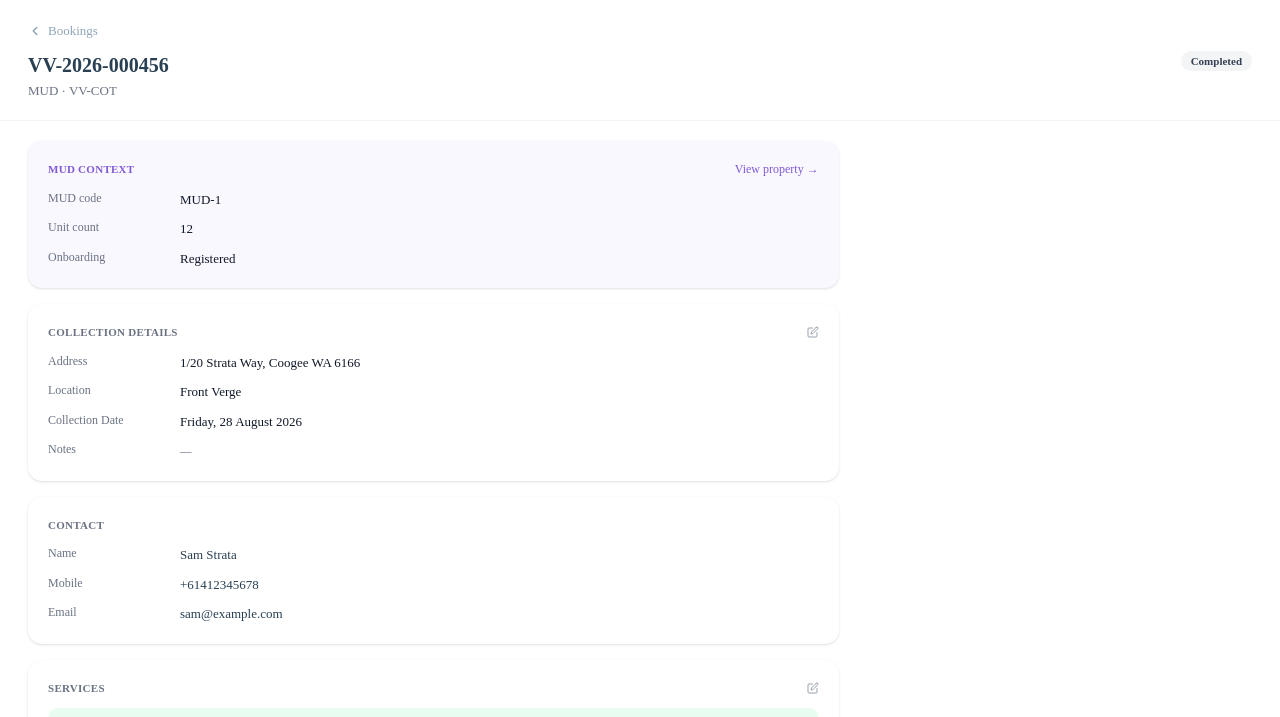
it: MUD collected-count editor — interaction › Save stays disabled until a count changes, then sends ONLY the changed item with its verbatim token
Click the button named "Edit collected counts" at (813, 688), box [807,682,819,694]
(page scrolled)
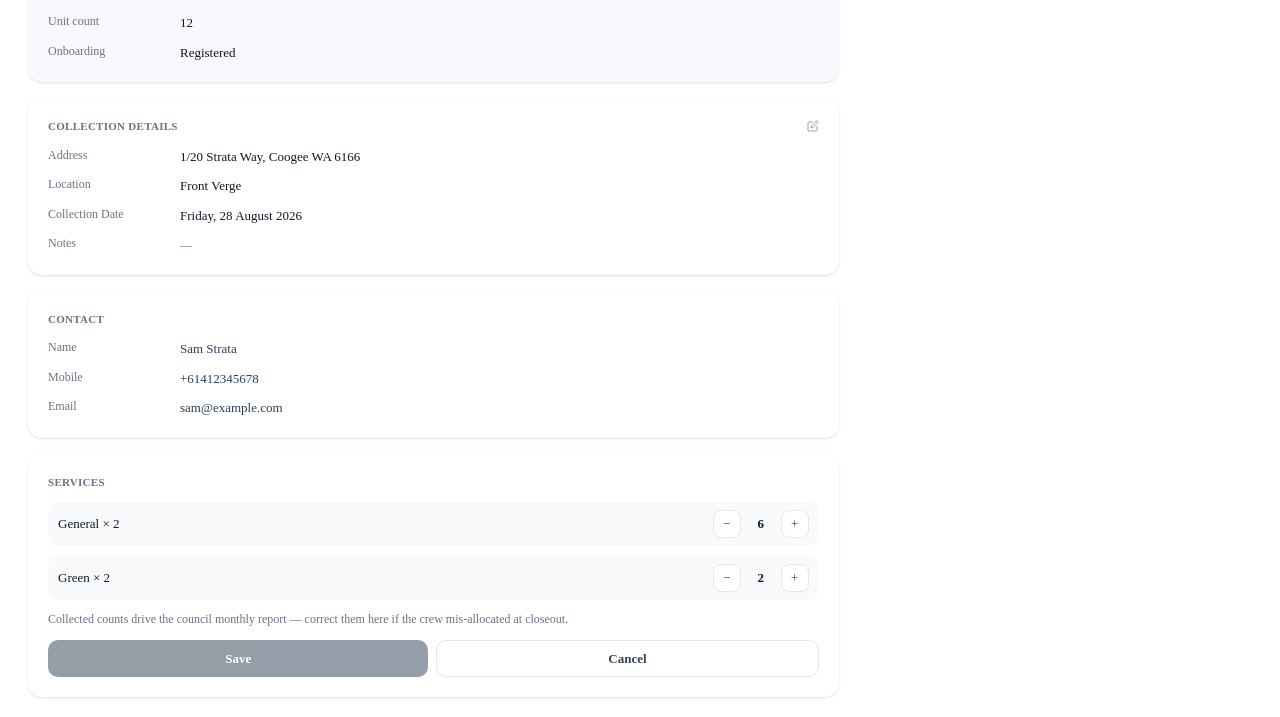
Expected: the button "Save" is disabled, [48,640,428,677]
// Correct the mis-allocation: General 6 → 5.
Click the button named "Decrease General collected count" at (727, 524), box [713,510,741,538]
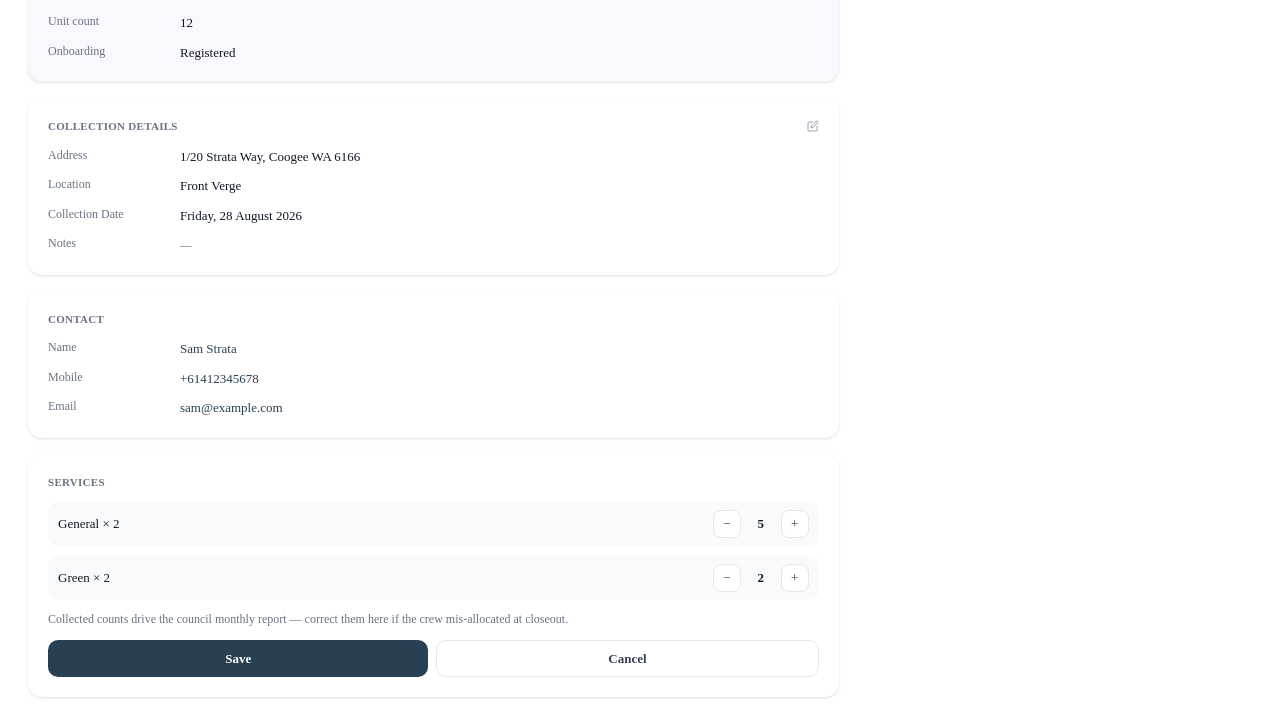
Expected: the button "Save" is enabled
Click the button "Save" at (238, 658), box [48,640,428,677]
(page scrolled)
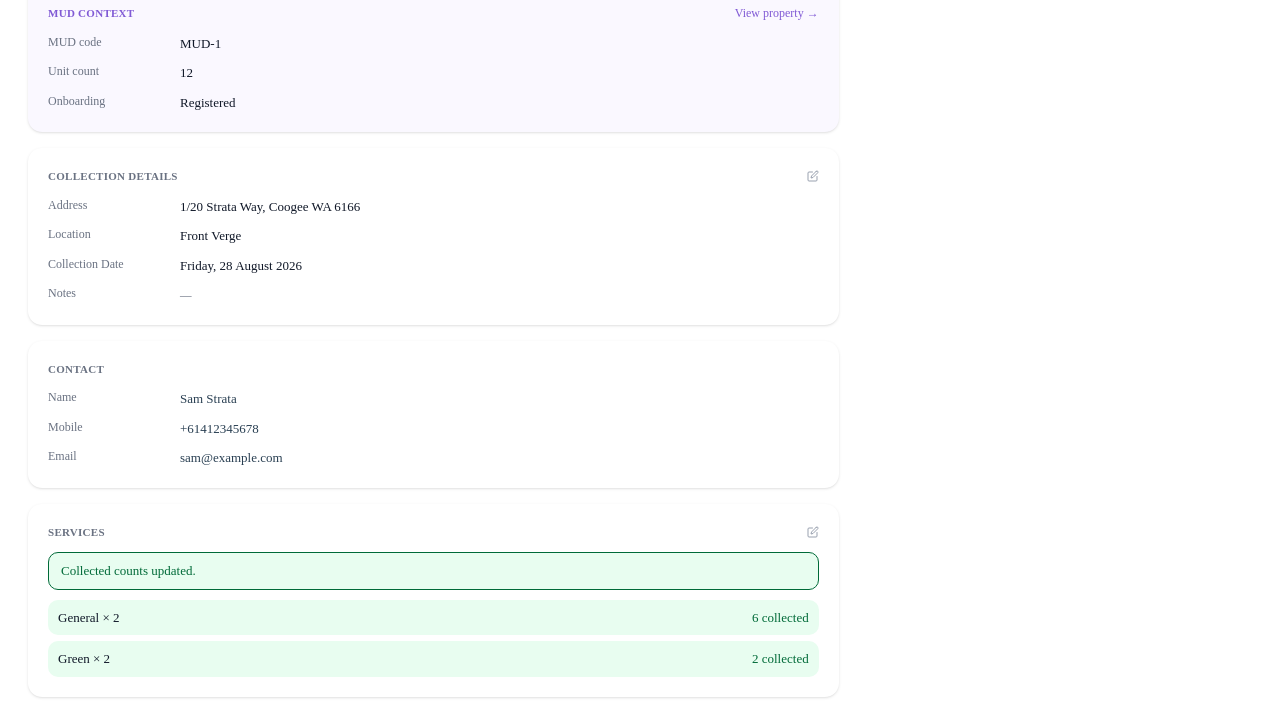
Expected: the text "Collected counts updated." is shown, [48,552,819,590]
